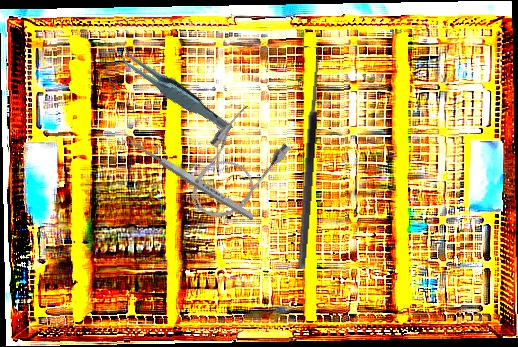Cannula: (172, 100, 297, 233)
Hook Surgical: (286, 46, 324, 269)
Surgical Spoon: (120, 131, 256, 223)
Tissue Forceps: (116, 28, 234, 153)
